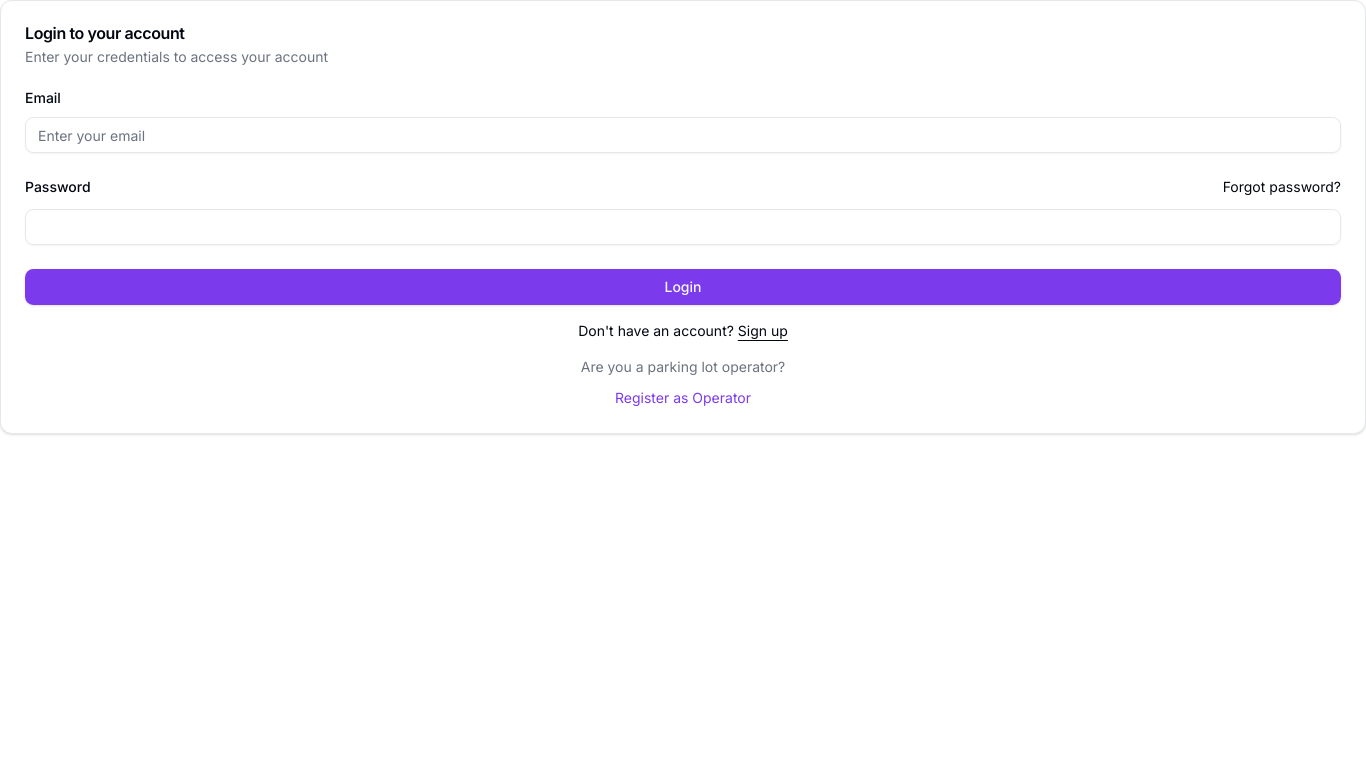
LoginForm › should switch to sign up mode when clicking sign up link
The image size is (1366, 768).
Click the button "Sign up": (763, 331) [738,321,788,341]
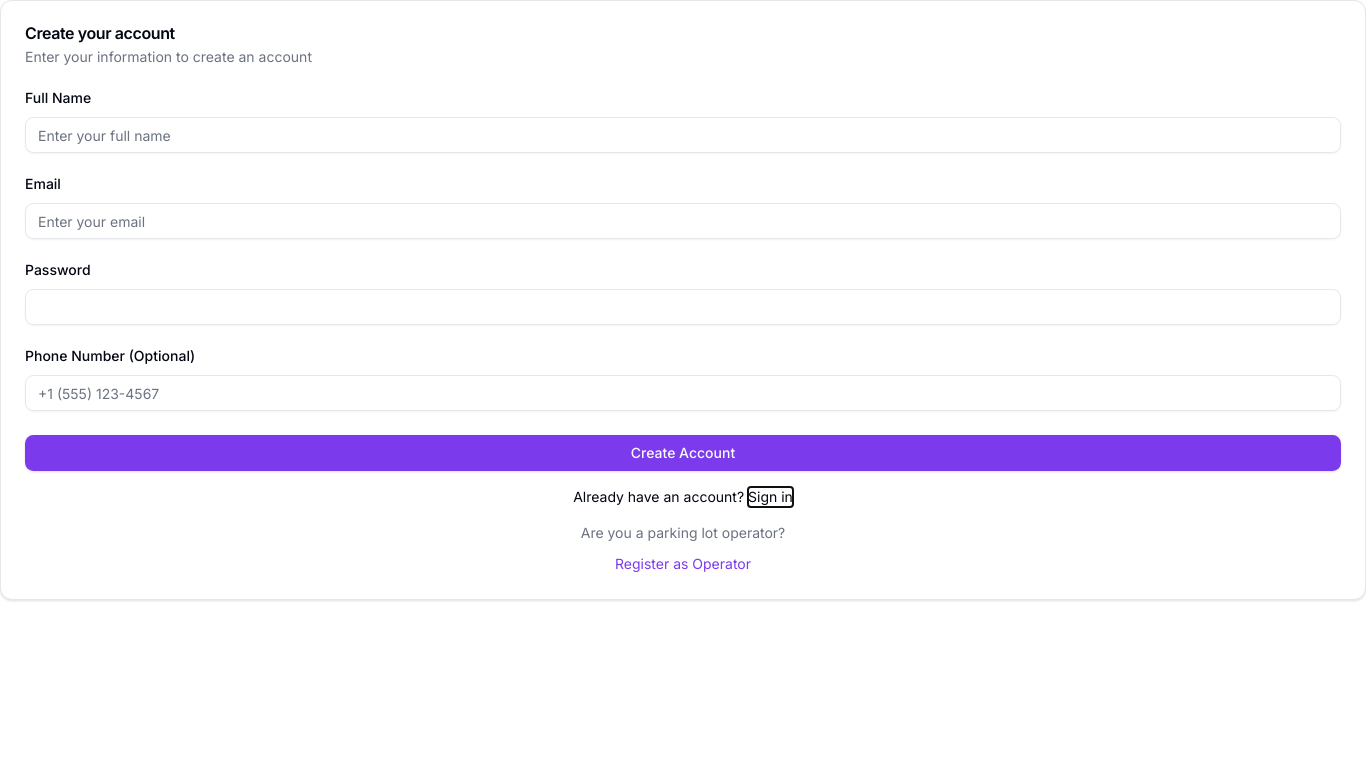
Check: the text "Create your account" is shown, box [25,23,175,43]
Check: the field labelled "Full Name" is shown, box [25,117,1341,153]
Check: the field labelled "Phone Number (Optional)" is shown, box [25,375,1341,411]
